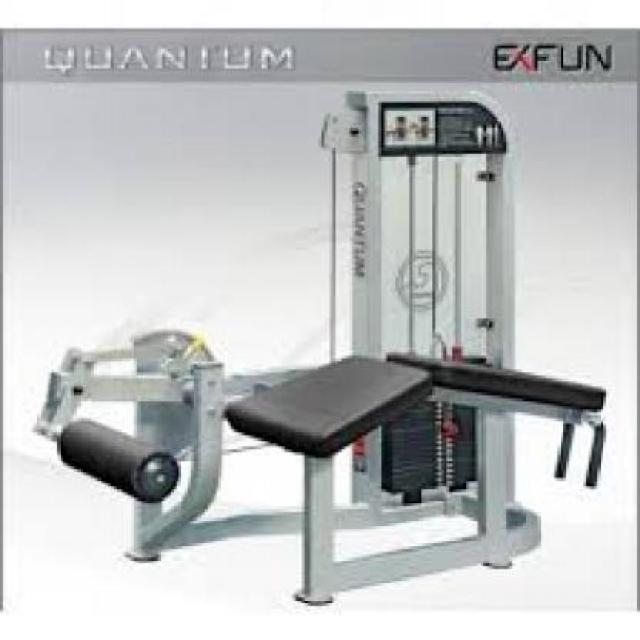reg curl machine: (17, 72, 631, 620)
